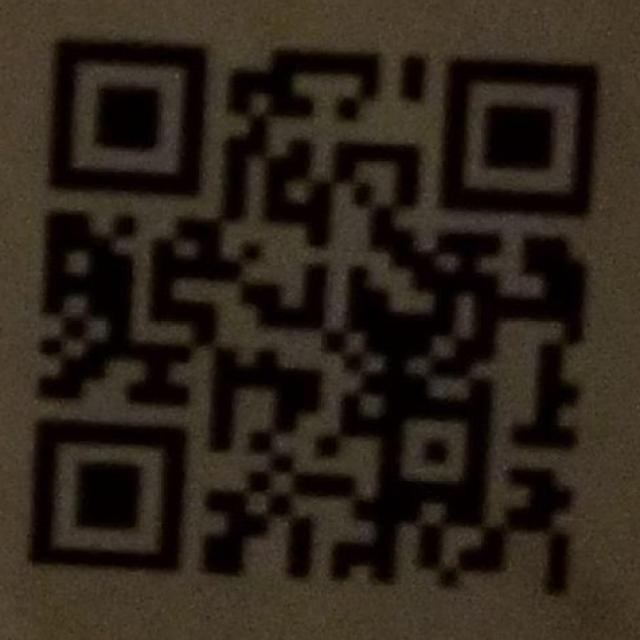QR_CODE: (28, 33, 602, 603)
